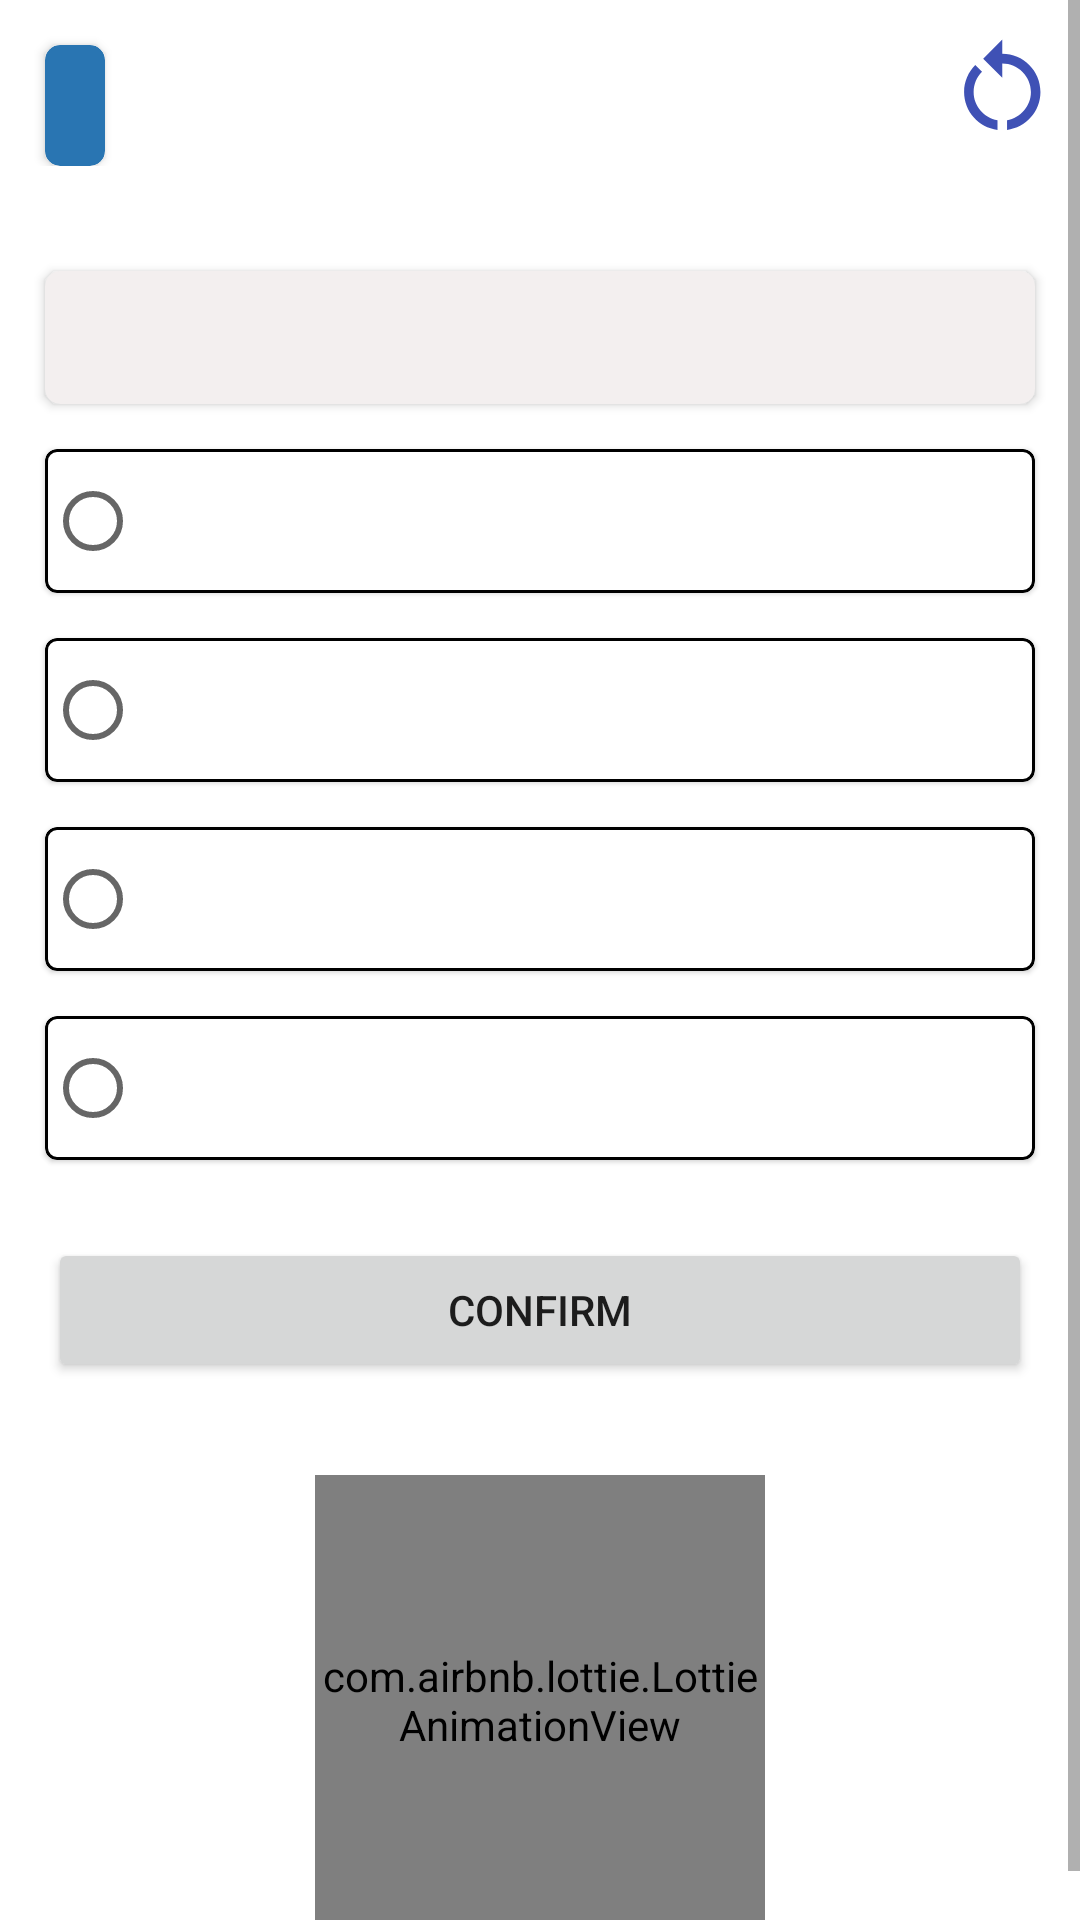

Where icons sit on this 1080 × 1920 app screen, as (x1, y1, x2, y2):
restart: (964, 40, 1041, 130)
